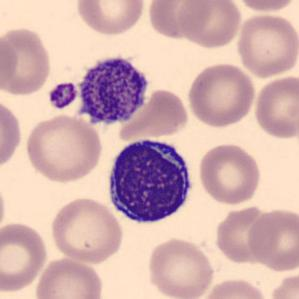Lymphocyte: (102, 134, 198, 230), (74, 51, 154, 131)
Platelets: (46, 81, 79, 111)
RBC: (22, 112, 104, 184), (48, 196, 125, 264), (185, 61, 257, 129), (145, 235, 217, 299), (114, 87, 192, 142), (196, 141, 262, 206), (234, 12, 298, 79), (0, 24, 54, 97), (213, 204, 275, 265), (0, 220, 49, 293), (246, 206, 298, 272), (177, 0, 243, 50), (33, 256, 106, 299), (252, 73, 298, 141), (146, 0, 215, 41), (74, 0, 147, 37), (0, 96, 24, 173), (198, 275, 270, 299), (0, 29, 20, 96), (267, 270, 299, 299), (233, 0, 298, 14), (0, 174, 8, 239)
